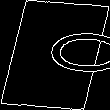O_W: (4, 30, 106, 80)
